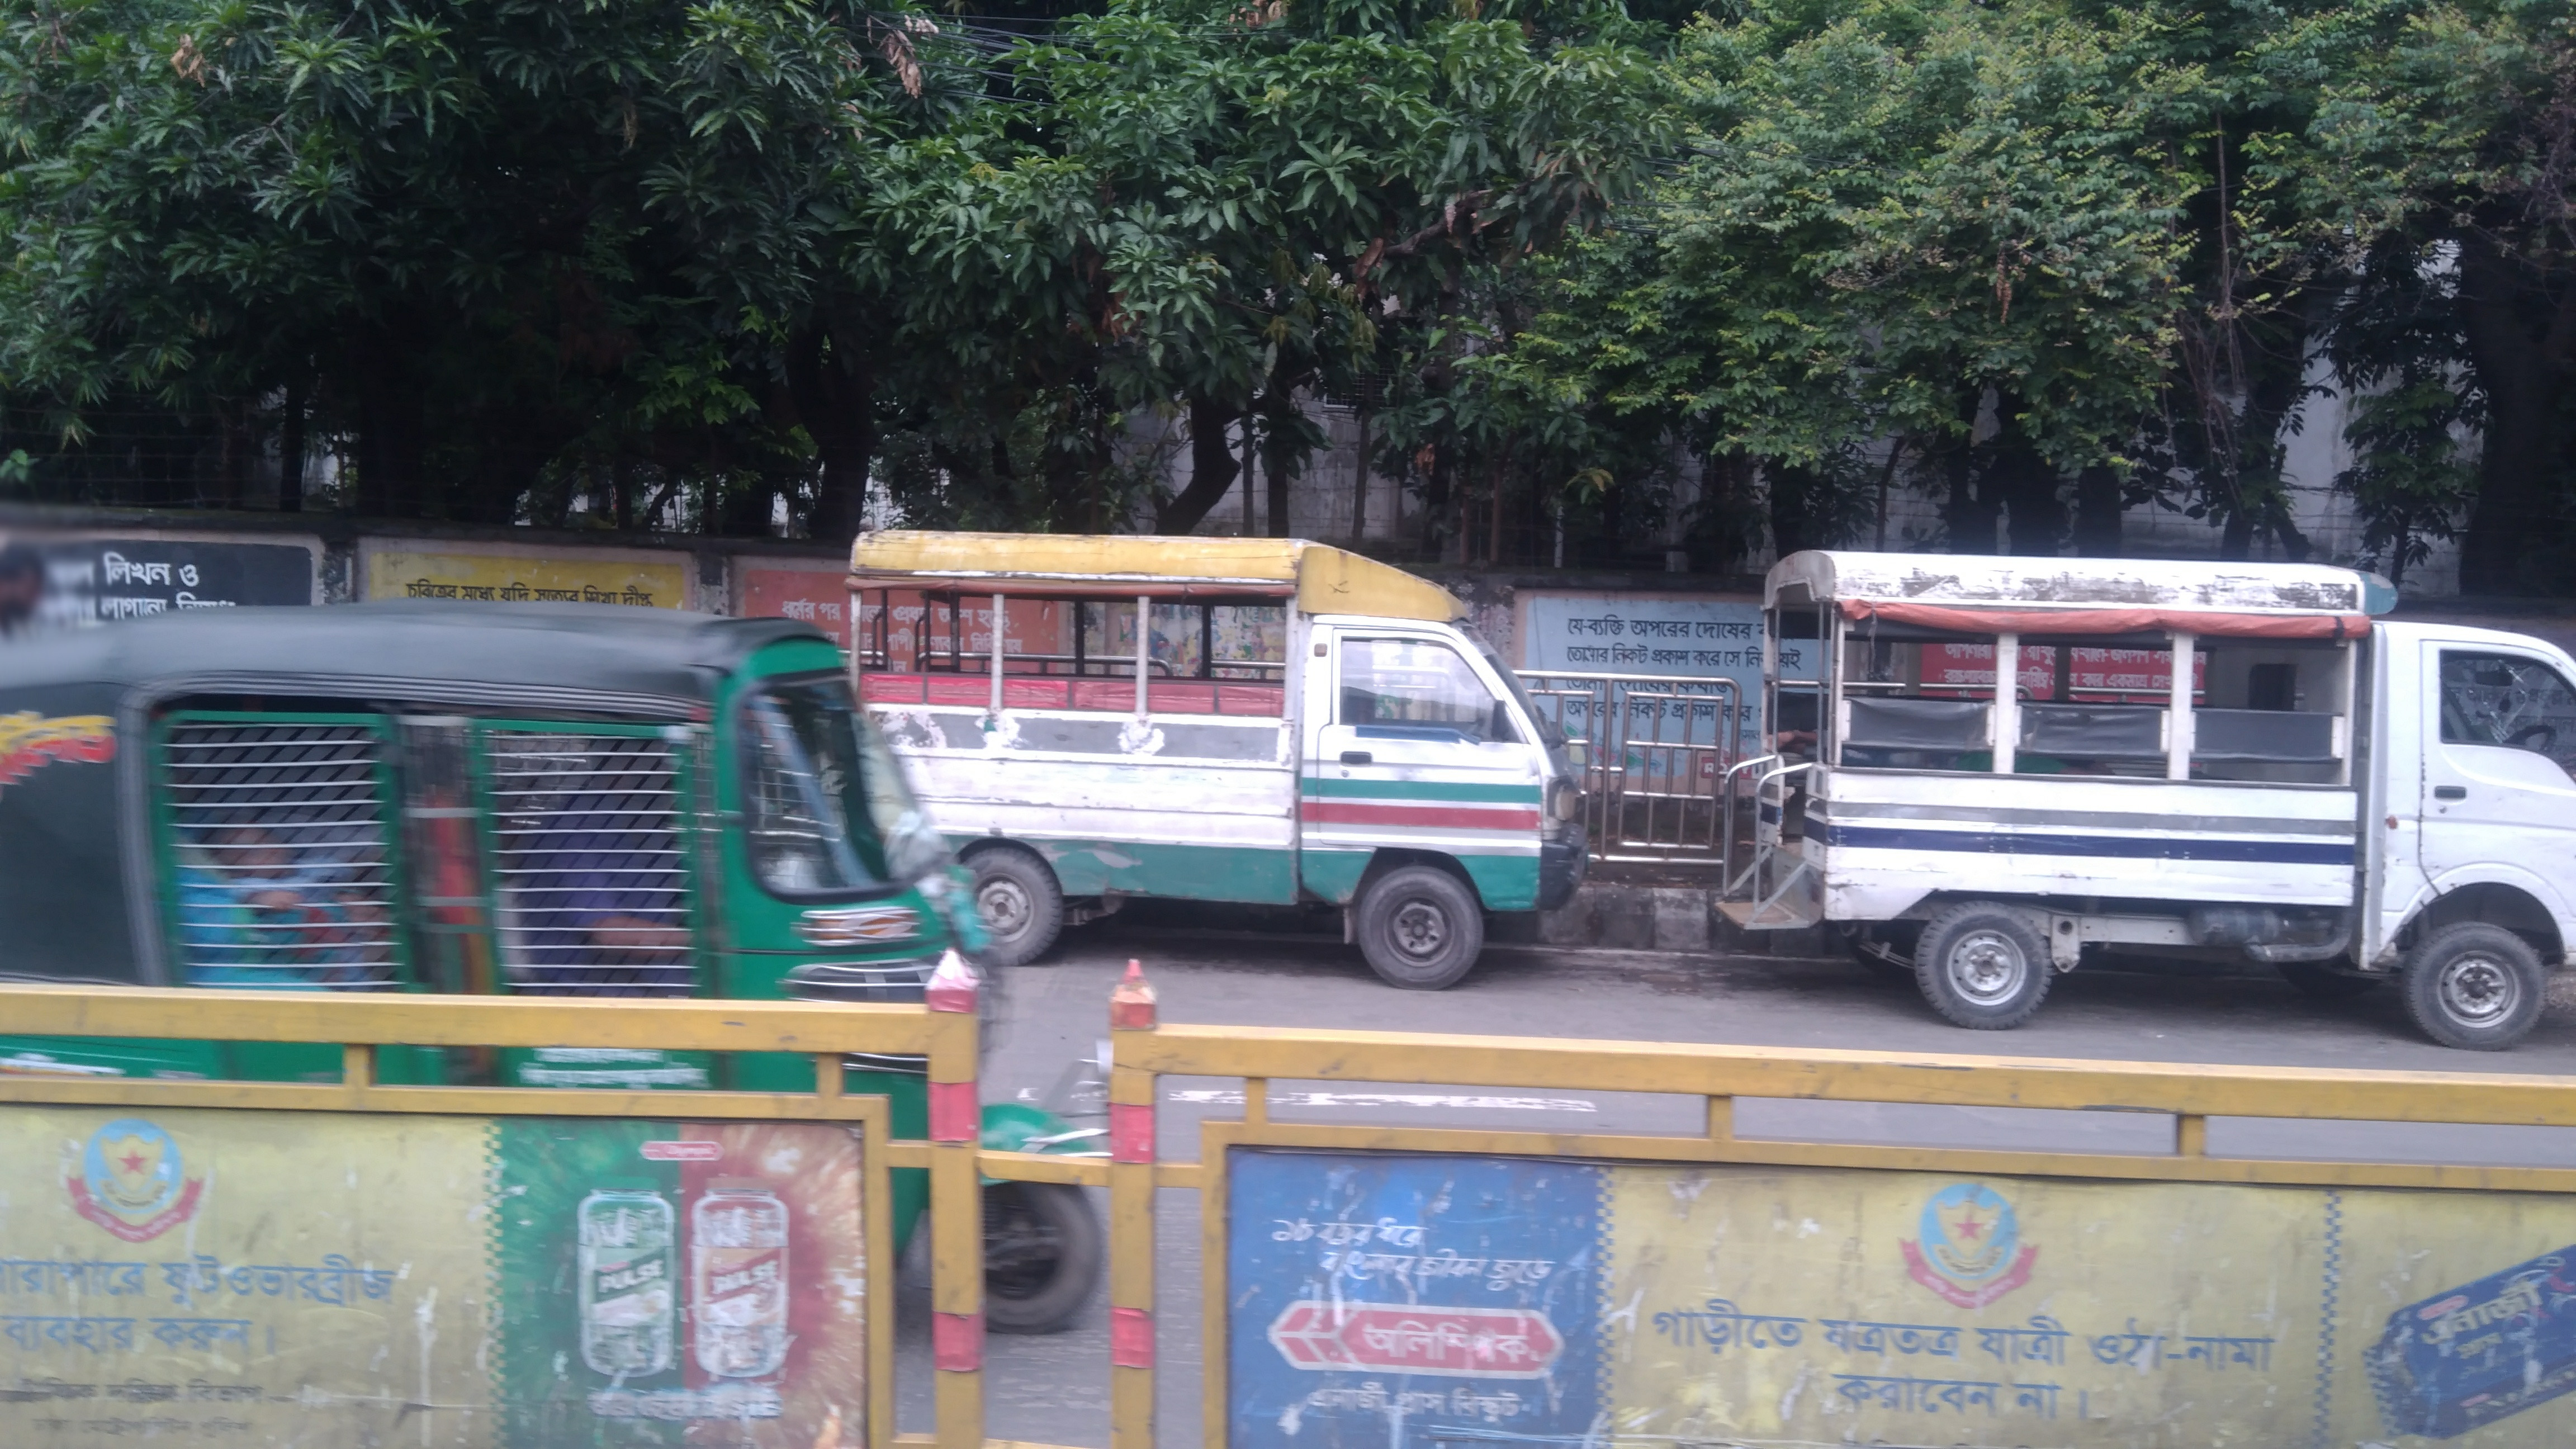cng: (0, 600, 1097, 1322)
leguna: (1750, 529, 2576, 1028), (833, 511, 1610, 985)
